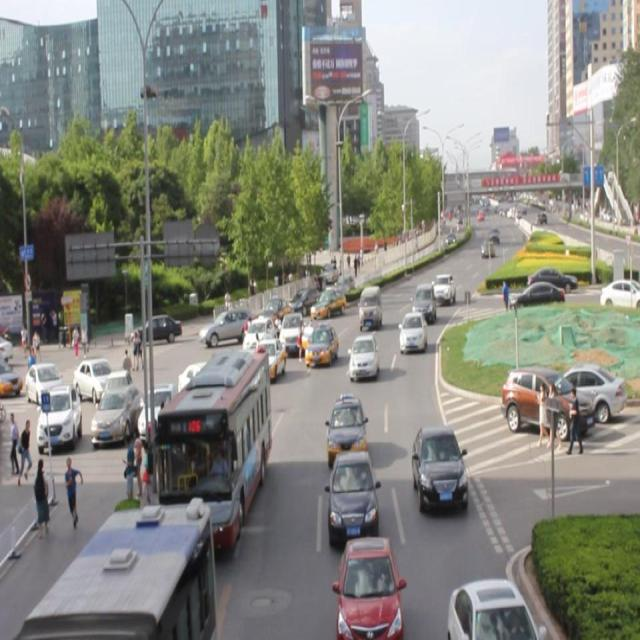car: (338, 537, 399, 640), (449, 578, 530, 640), (412, 422, 465, 512), (328, 452, 377, 540), (326, 394, 366, 464), (200, 308, 254, 347), (211, 345, 245, 395), (248, 334, 288, 376), (304, 316, 338, 362), (347, 334, 378, 380), (243, 316, 276, 357), (311, 279, 348, 315), (278, 304, 307, 348), (397, 311, 426, 353), (411, 283, 435, 324), (431, 272, 455, 304)
truck: (357, 284, 382, 328)
van: (25, 502, 214, 640), (156, 352, 270, 526)
